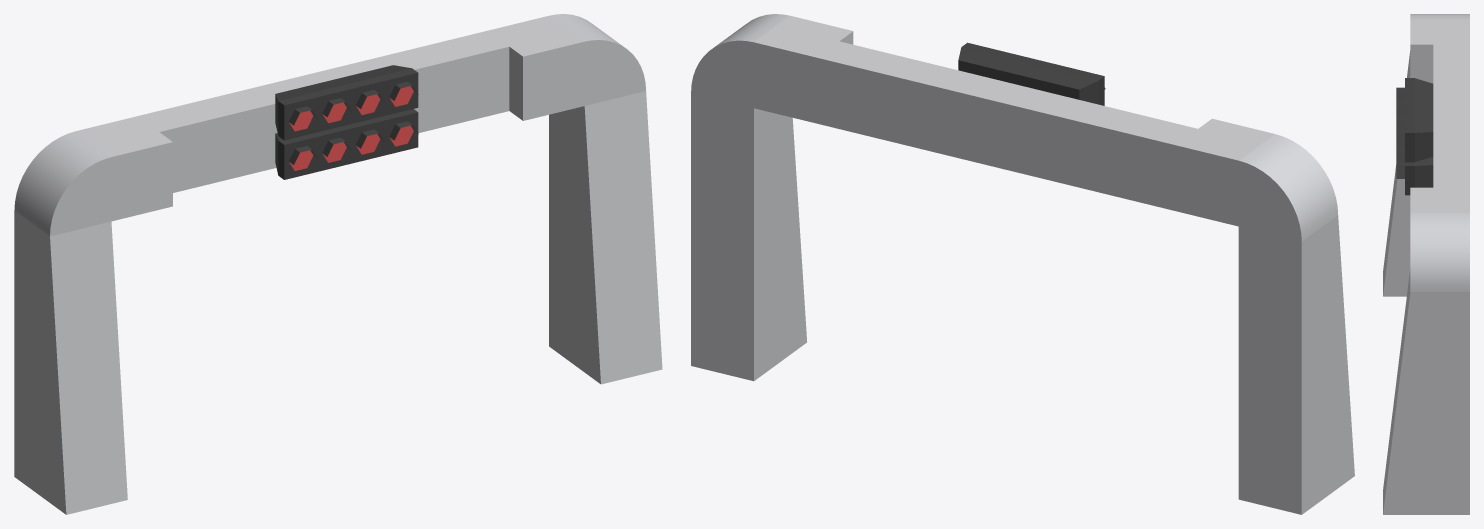
Rendered from overhead-lights.glb.
3 views of the same model, side by side, from view 1: azimuth 30°, elevation 25°; view 2: azimuth 150°, elevation 25°; view 3: azimuth 270°, elevation 25° (orthographic). The views are drawn at different scales.
Parts seen in each view (by area): view 1: overheadLights(Clone); view 2: overheadLights(Clone); view 3: overheadLights(Clone).
Boxes of the visible parts, x1,y1,x2,y2 form: overheadLights(Clone): (14,14,662,514); overheadLights(Clone): (691,14,1354,514); overheadLights(Clone): (1383,14,1469,514).
Size of the model in its own units: 1.26 by 0.6939 by 0.19.
